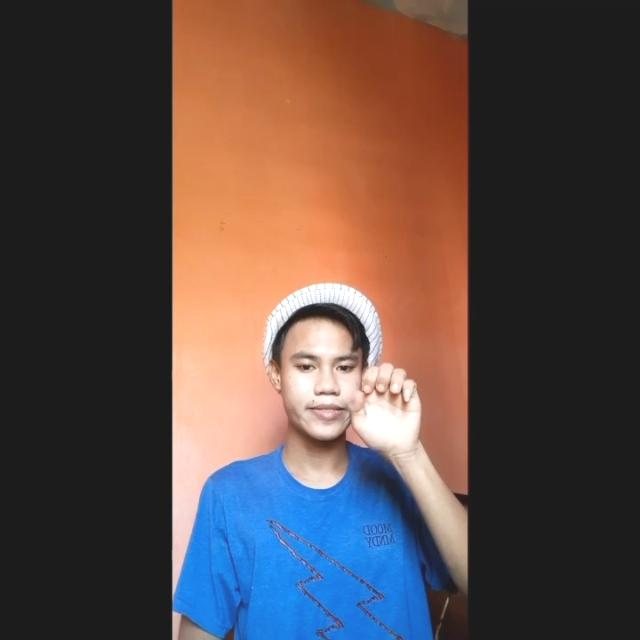E: (343, 363, 425, 462)
